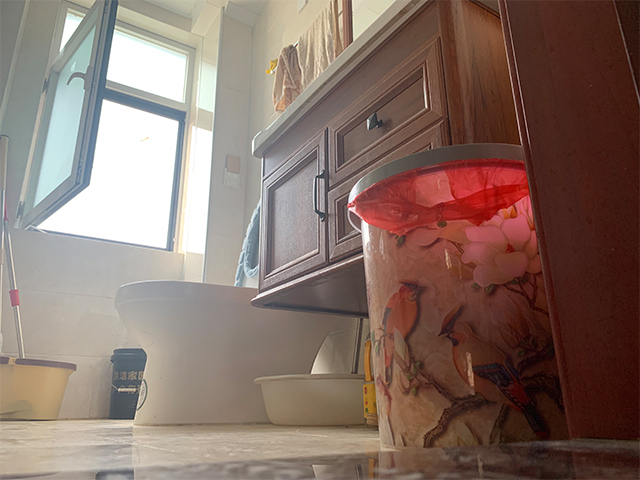closestool: (113, 195, 336, 427)
trashcan: (347, 143, 571, 452)
